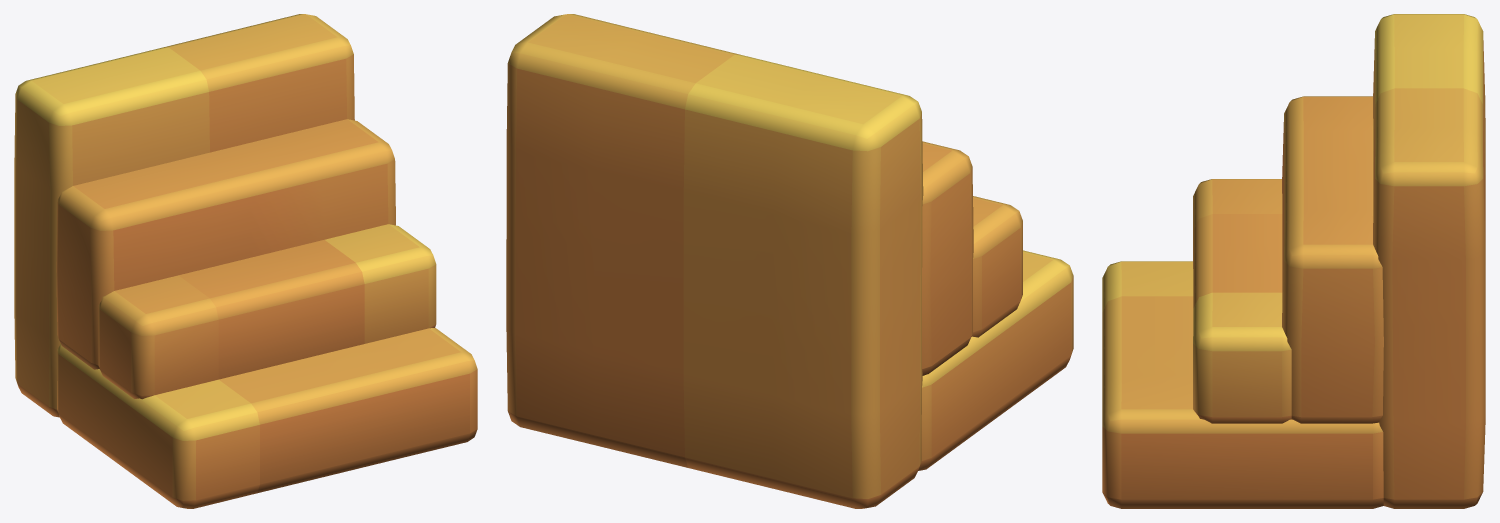
The model's file is stair_straight.fbx.
3 views of the same model, side by side, from view 1: azimuth 30°, elevation 25°; view 2: azimuth 150°, elevation 25°; view 3: azimuth 270°, elevation 25° (orthographic). The views are drawn at different scales.
Parts seen in each view (by area): view 1: stair_straight; view 2: stair_straight; view 3: stair_straight.
Boxes of the visible parts, left/top/right/bottom form: stair_straight: left=14, top=14, right=477, bottom=508; stair_straight: left=506, top=14, right=1073, bottom=508; stair_straight: left=1102, top=14, right=1485, bottom=508.
Size of the model in its own units: 106 by 105 by 105.
